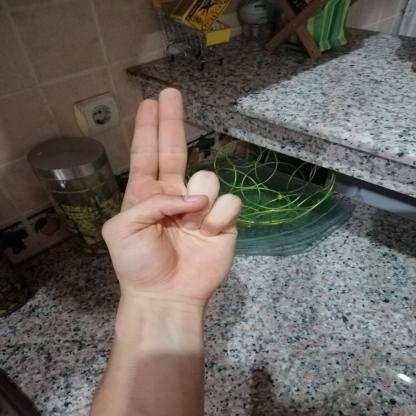TA: (90, 78, 252, 314)
